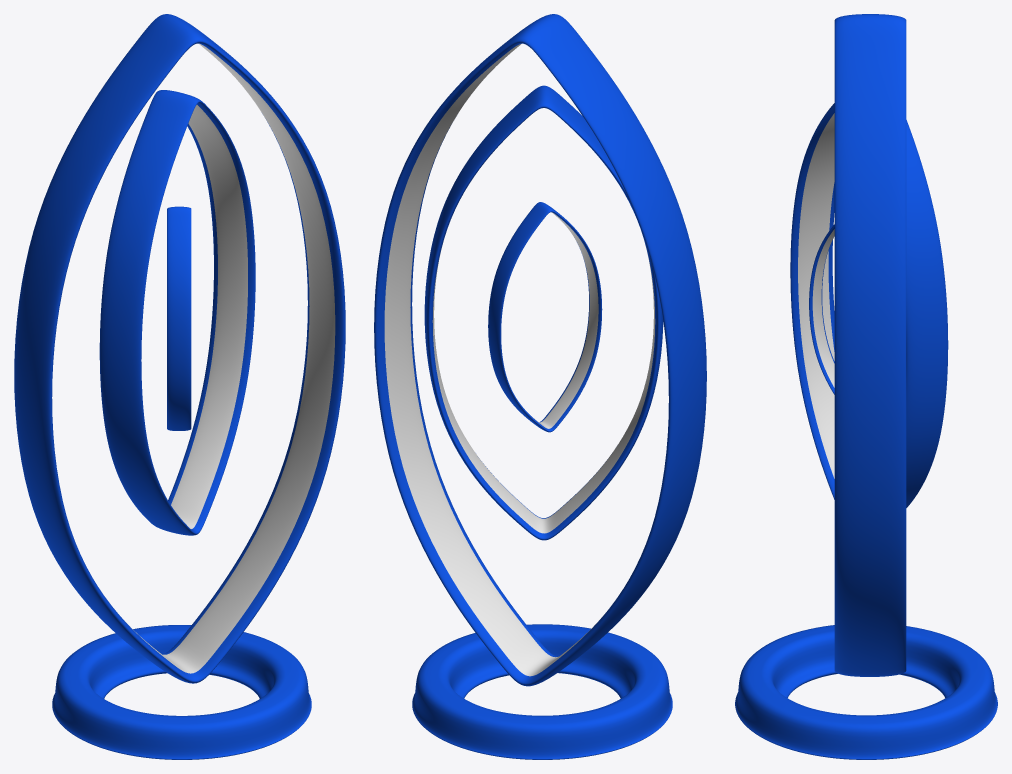
Rendered from LampeScienceFiction.fbx.
3 views of the same model, side by side, from view 1: azimuth 30°, elevation 25°; view 2: azimuth 150°, elevation 25°; view 3: azimuth 270°, elevation 25° (orthographic).
Parts seen in each view (by area): view 1: LampeScienceFiction; view 2: LampeScienceFiction; view 3: LampeScienceFiction.
Part boxes in pixels (bbox=[...]): LampeScienceFiction: bbox=[14, 14, 345, 759]; LampeScienceFiction: bbox=[374, 14, 706, 759]; LampeScienceFiction: bbox=[735, 14, 997, 759].
Size of the model in its own units: 35.07 by 74.99 by 25.78.
